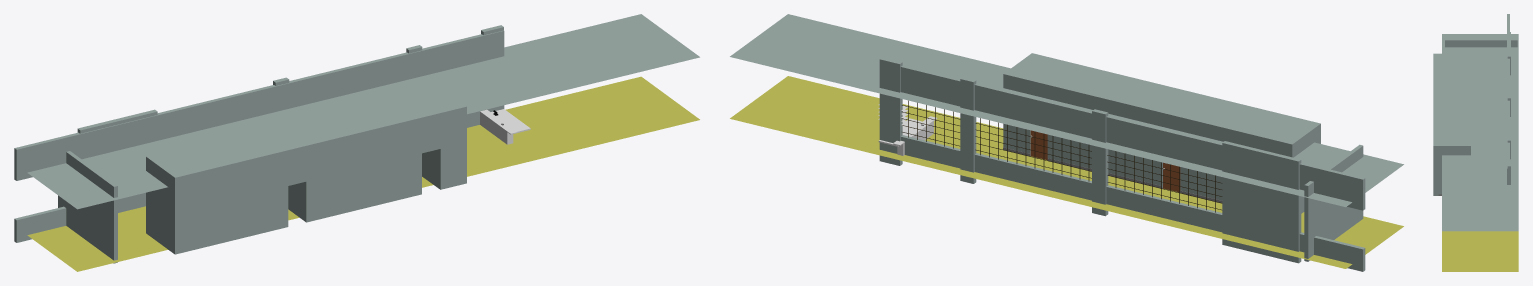
File: Corridor.fbx
3 views of the same model, side by side, from view 1: azimuth 30°, elevation 25°; view 2: azimuth 150°, elevation 25°; view 3: azimuth 270°, elevation 25° (orthographic). The views are drawn at different scales.
Parts seen in each view (by area): view 1: Left Rooms, Ceiling, Floor, Top Wall, Back Wall, Bottom Wall, Cube.003, Wall; view 2: Left Rooms, Floor, Ceiling, Top Wall, Wall, Bottom Wall, Back Wall, Column3, Window Horizontal Sticks, Window Vertical Sticks, Column2, Column1 (+3 smaller); view 3: Ceiling, Left Rooms, Floor, Back Wall, Top Wall, Wall, Column3.
Part boxes in pixels (left/top/right/bottom): Left Rooms: left=146, top=85, right=466, bottom=254; Ceiling: left=27, top=14, right=699, bottom=209; Floor: left=27, top=76, right=699, bottom=271; Top Wall: left=14, top=30, right=504, bottom=180; Back Wall: left=58, top=151, right=117, bottom=263; Bottom Wall: left=14, top=105, right=504, bottom=242; Cube.003: left=480, top=109, right=517, bottom=144; Wall: left=77, top=109, right=157, bottom=133; Left Rooms: left=1003, top=53, right=1320, bottom=213; Floor: left=730, top=76, right=1403, bottom=268; Ceiling: left=730, top=14, right=1403, bottom=207; Top Wall: left=900, top=65, right=1365, bottom=210; Wall: left=1222, top=141, right=1301, bottom=263; Bottom Wall: left=900, top=135, right=1365, bottom=271; Back Wall: left=1304, top=144, right=1363, bottom=261; Column3: left=879, top=57, right=902, bottom=165; Window Horizontal Sticks: left=902, top=105, right=1222, bottom=210; Window Vertical Sticks: left=908, top=100, right=1215, bottom=212; Column2: left=1092, top=109, right=1108, bottom=216; Column1: left=960, top=77, right=976, bottom=183; Ceiling: left=1442, top=34, right=1518, bottom=231; Left Rooms: left=1433, top=53, right=1470, bottom=195; Floor: left=1442, top=231, right=1518, bottom=271; Back Wall: left=1445, top=39, right=1517, bottom=47; Top Wall: left=1507, top=14, right=1509, bottom=184; Wall: left=1507, top=32, right=1510, bottom=75; Column3: left=1507, top=160, right=1510, bottom=184.
Bounding box in the file's own units: 10549 × 1638 × 1898.
